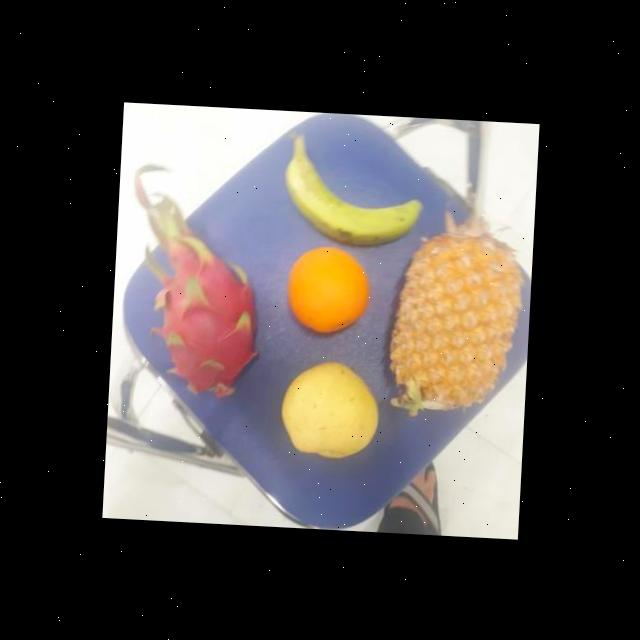banana: (282, 138, 426, 249)
orange: (280, 242, 374, 336)
pear: (278, 354, 384, 460)
pineapple: (388, 233, 527, 412)
pitaya: (136, 223, 266, 396)
